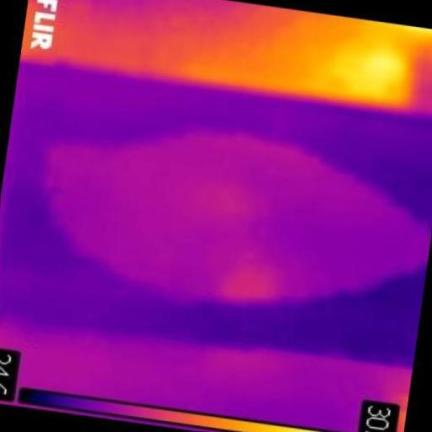mango: (42, 131, 431, 301)
